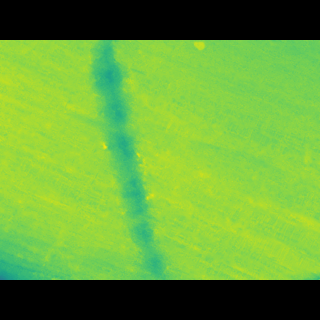Loch: (80, 71, 179, 242)
